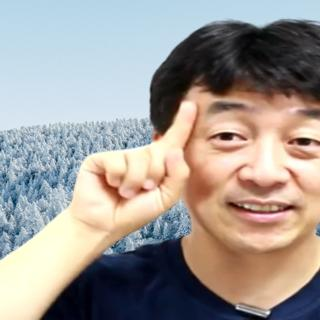IRRITATED: (69, 97, 201, 241)
